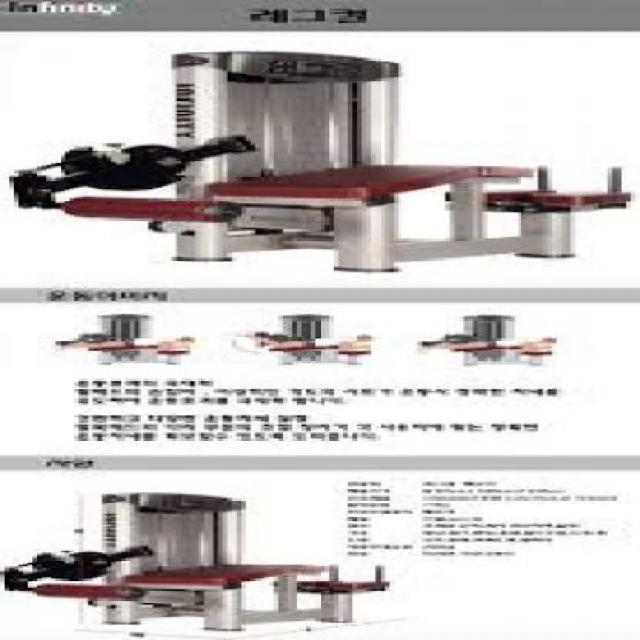reg curl machine: (3, 45, 632, 272)
